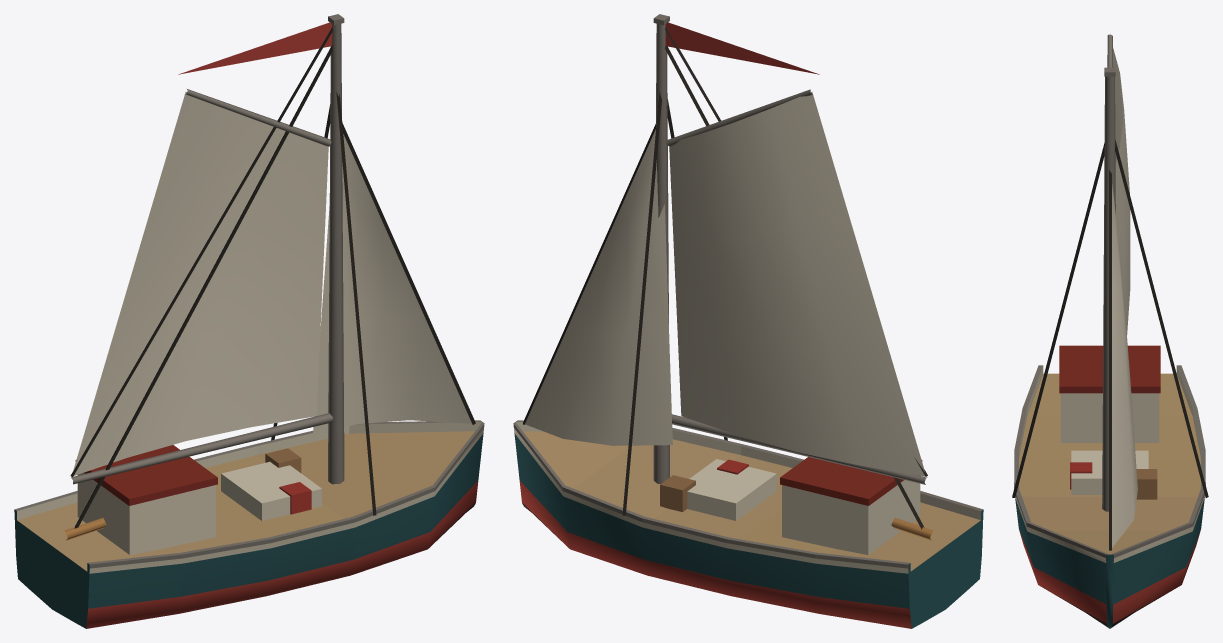
Rendered from hull_other_work_skiff.glb.
The picture shows the model from 3 angles, left to right: view 1: azimuth 30°, elevation 25°; view 2: azimuth 150°, elevation 25°; view 3: azimuth 270°, elevation 25°; orthographic projection. The views are drawn at different scales.
Parts seen in each view (by area): view 1: sail_main, hull, sail_jib, deck, mast, rigging, boom_spar, flag, gaff; view 2: sail_main, hull, sail_jib, deck, rigging, mast, flag, boom_spar, gaff; view 3: hull, deck, sail_jib, rigging, mast, sail_main.
Boxes of the visible parts, bbox=[...] form: sail_main: bbox=[73, 92, 328, 475]; hull: bbox=[14, 420, 484, 628]; sail_jib: bbox=[313, 134, 471, 435]; deck: bbox=[64, 445, 321, 554]; mast: bbox=[328, 14, 344, 484]; rigging: bbox=[74, 45, 475, 528]; boom_spar: bbox=[70, 27, 332, 484]; flag: bbox=[178, 22, 332, 74]; gaff: bbox=[185, 89, 331, 146]; sail_main: bbox=[669, 92, 925, 476]; hull: bbox=[513, 420, 983, 628]; sail_jib: bbox=[525, 129, 672, 445]; deck: bbox=[660, 457, 933, 554]; rigging: bbox=[523, 45, 924, 529]; mast: bbox=[653, 14, 669, 483]; flag: bbox=[665, 22, 819, 74]; boom_spar: bbox=[665, 27, 927, 484]; gaff: bbox=[666, 89, 812, 146]; hull: bbox=[1014, 365, 1205, 628]; deck: bbox=[1059, 345, 1160, 499]; sail_jib: bbox=[1112, 184, 1137, 547]; rigging: bbox=[1012, 139, 1208, 550]; mast: bbox=[1102, 67, 1115, 511]; sail_main: bbox=[1113, 48, 1130, 334].
Size of the model in its own units: 5 by 6 by 2.09.
